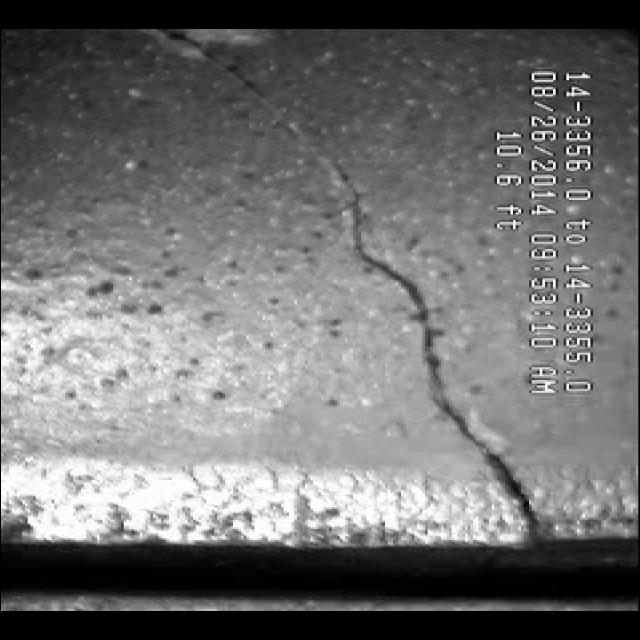Crack: (284, 67, 484, 496)
